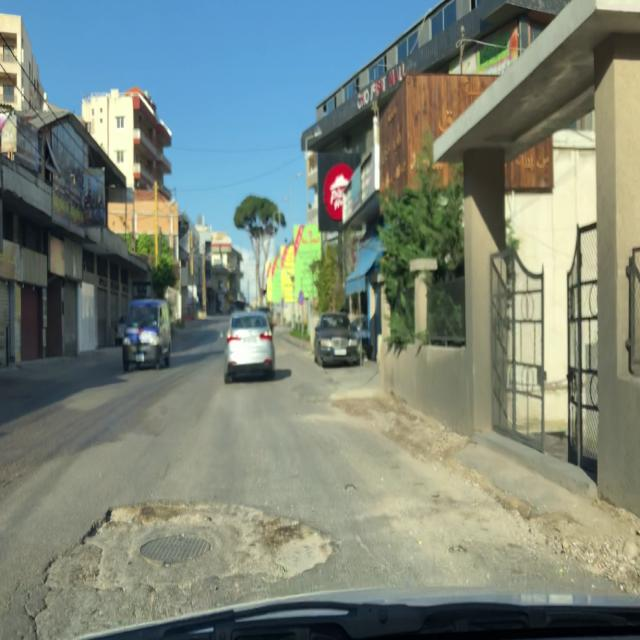Pothole: (242, 500, 338, 584), (78, 499, 164, 546)
